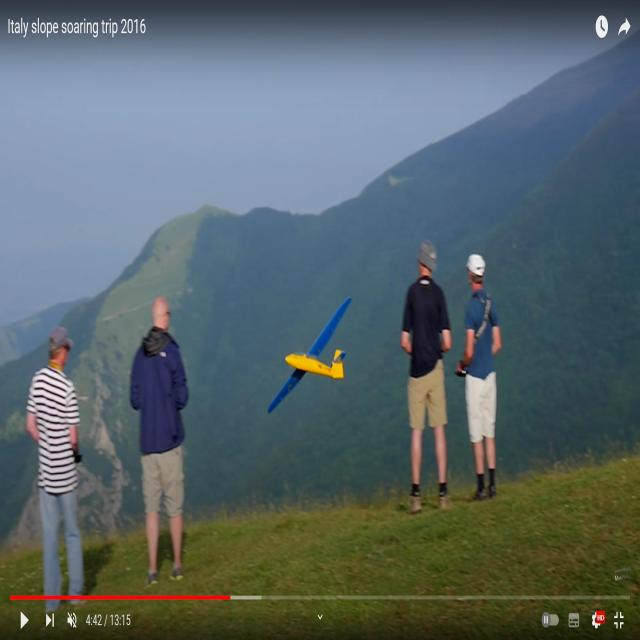iha: (298, 331, 322, 382)
